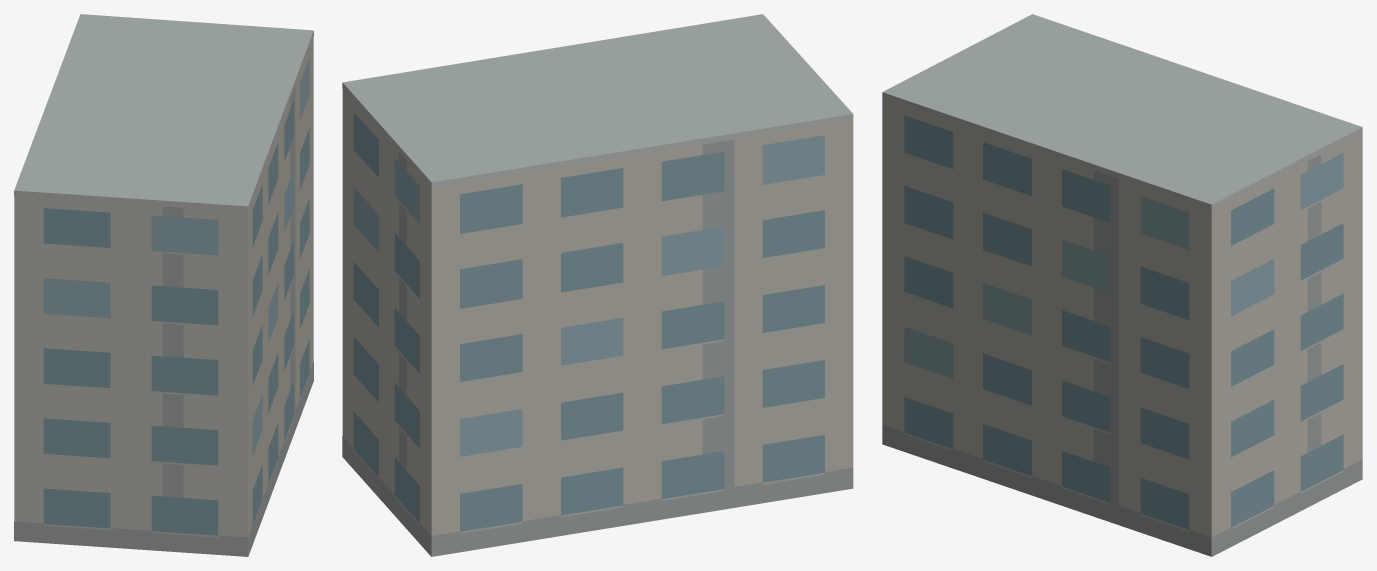
File: survey-upis-32941641.glb
3 views of the same model, side by side, from view 1: azimuth 30°, elevation 25°; view 2: azimuth 150°, elevation 25°; view 3: azimuth 270°, elevation 25° (orthographic). The views are drawn at different scales.
Visible parts, largest first — view 1: survey-upis-32941641.tmp; view 2: survey-upis-32941641.tmp; view 3: survey-upis-32941641.tmp.
Part boxes in pixels (x1,y1,x2,y2): survey-upis-32941641.tmp: (14,14,313,556); survey-upis-32941641.tmp: (342,14,853,556); survey-upis-32941641.tmp: (882,14,1362,556).
Size of the model in its own units: 16.96 by 14.6 by 18.05.
